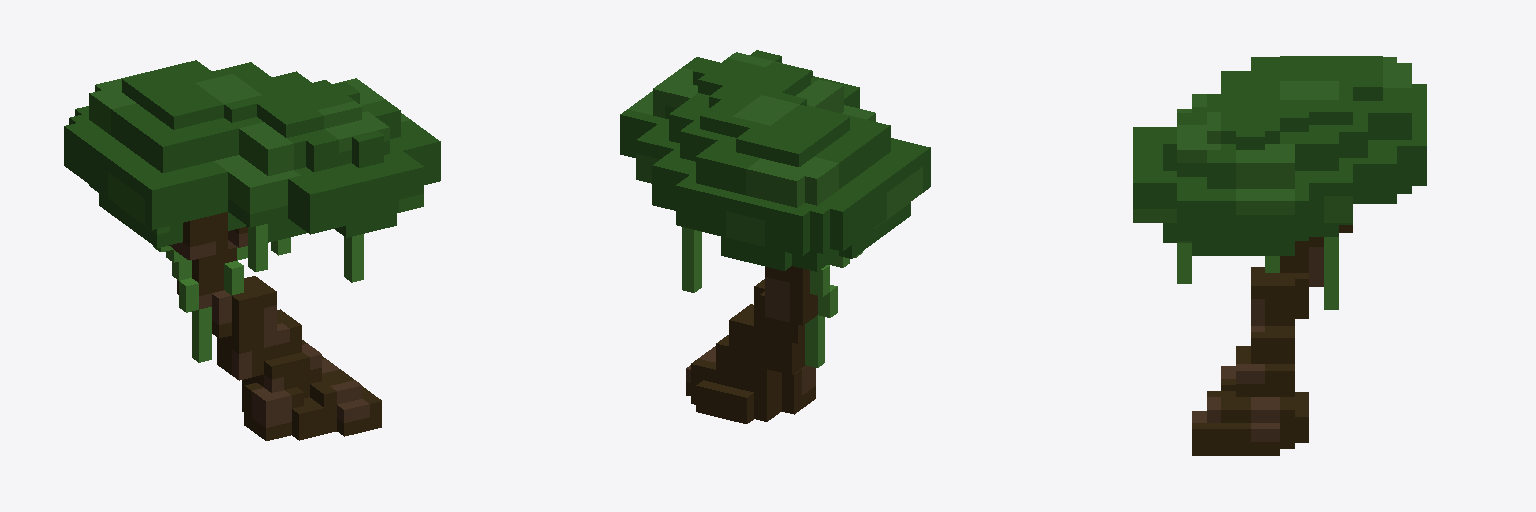
3 renders of one model, left to right at view 1: azimuth 30°, elevation 25°; view 2: azimuth 150°, elevation 25°; view 3: azimuth 270°, elevation 25°, orthographic.
Visible parts, largest first — view 1: object 1; view 2: object 1; view 3: object 1.
Boxes of the visible parts, box(x1,y1,x2,y2) form: object 1: box(64, 60, 440, 440); object 1: box(620, 50, 930, 423); object 1: box(1133, 56, 1426, 455).
Bounding box in the file's own units: 2.1 × 2.4 × 2.
Materials: 1 (1 with a texture image).